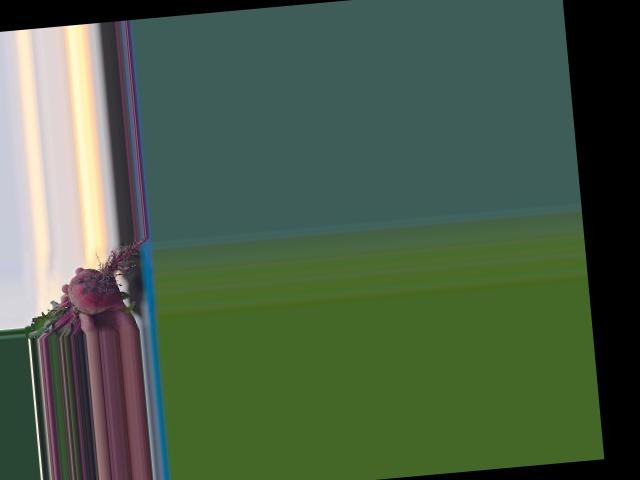beet: (17, 237, 155, 339)
